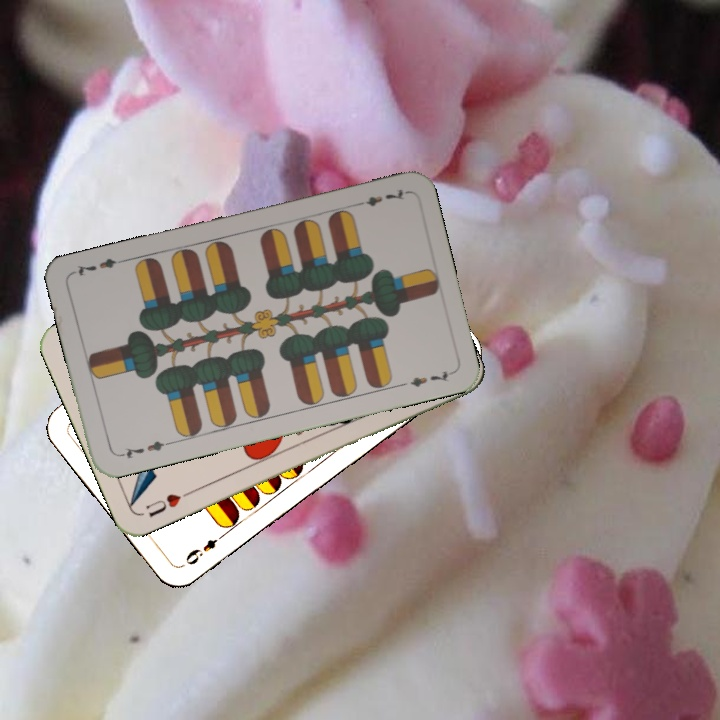E7: (114, 436, 173, 461), (351, 185, 409, 209)
E9: (181, 528, 229, 568)
HU: (141, 486, 194, 520)
